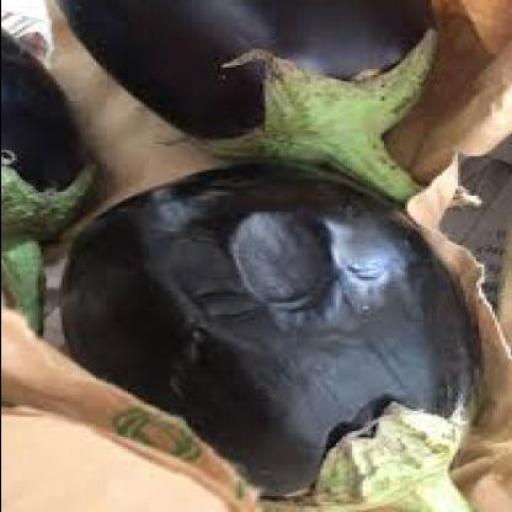biodegradable: (58, 166, 472, 511), (48, 2, 432, 207), (1, 27, 90, 342)
